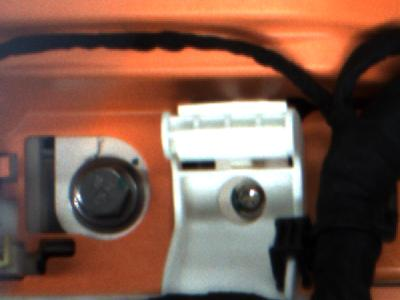nut_b: (69, 152, 145, 235)
